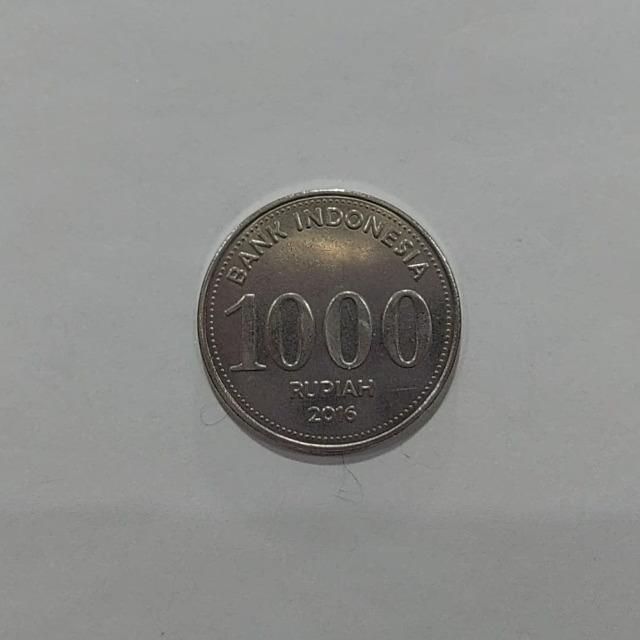Rp100: (195, 187, 463, 463)
